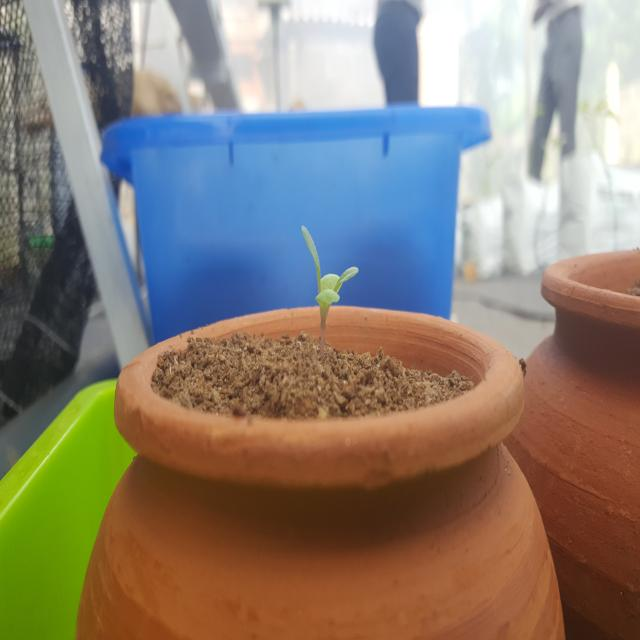Lettuce-Not-Ready-to-Harvest: (302, 218, 359, 340)
